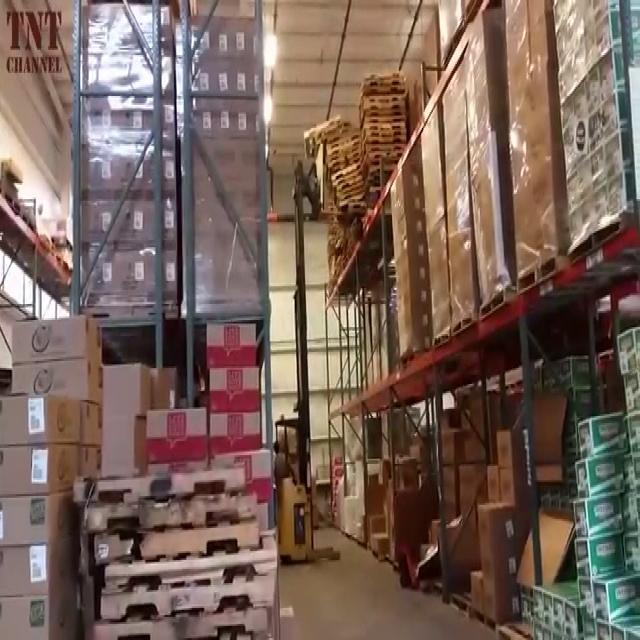Chariot elevateur: (274, 400, 330, 572)
